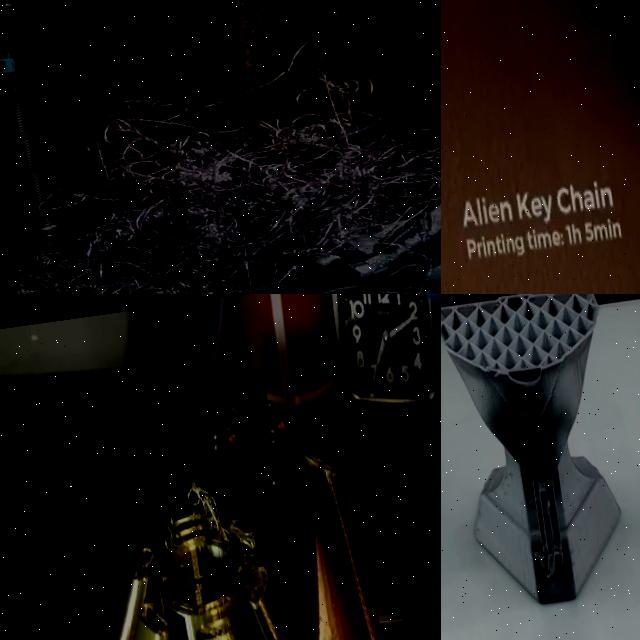spaghetti: (0, 44, 441, 294), (150, 468, 266, 594)
